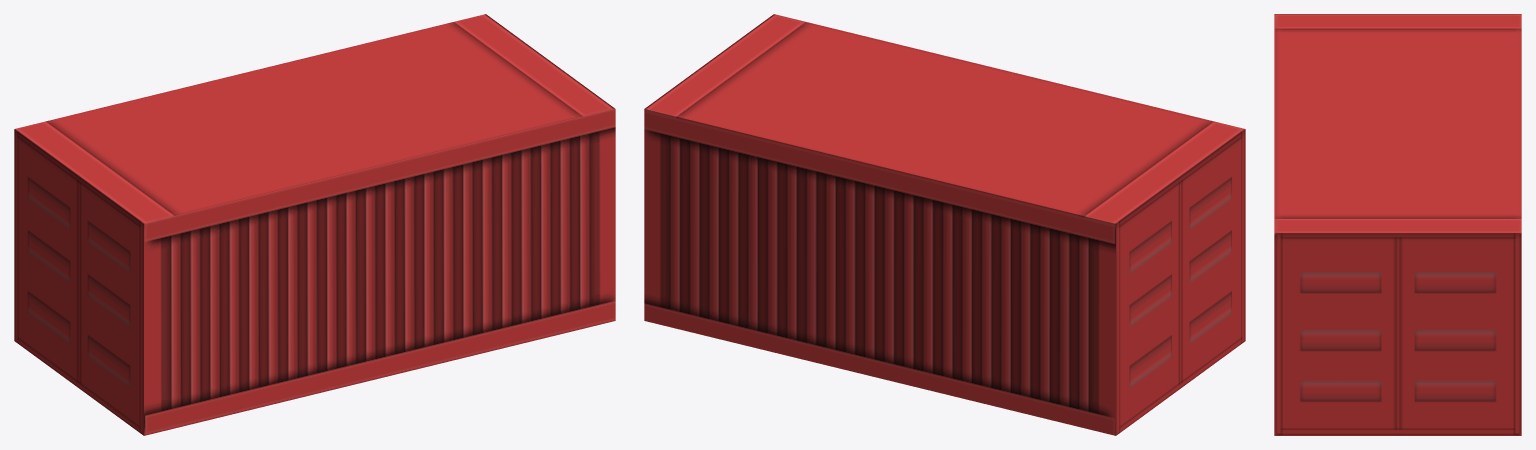
Rendered from container.fbx.
3 views of the same model, side by side, from view 1: azimuth 30°, elevation 25°; view 2: azimuth 150°, elevation 25°; view 3: azimuth 270°, elevation 25° (orthographic). The views are drawn at different scales.
Parts seen in each view (by area): view 1: pCube1; view 2: pCube1; view 3: pCube1.
Part boxes in pixels (box(x1,y1,x2,y2)): pCube1: box(14, 14, 615, 435); pCube1: box(644, 14, 1245, 435); pCube1: box(1274, 14, 1521, 435).
Size of the model in its own units: 7.26 by 3.12 by 3.46.
